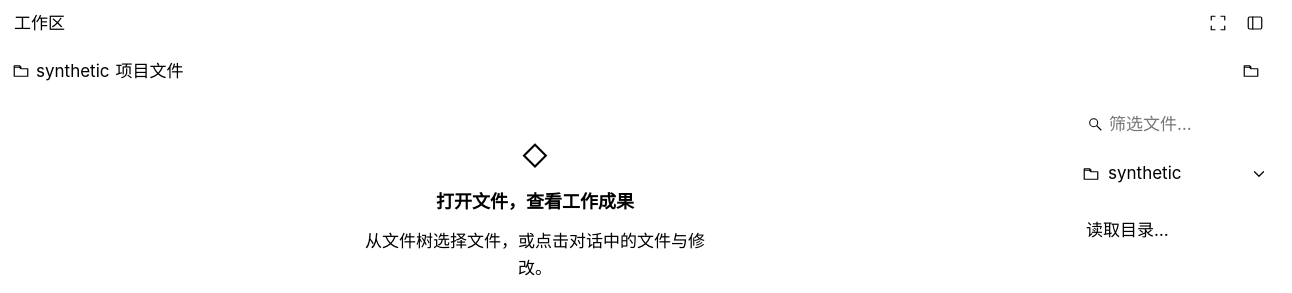
Test case: filters nested project files and presents no manual refresh control
Type "match" into the field labelled "筛选文件".
click(1188, 124); type("match")  # box [1104,105,1272,143]
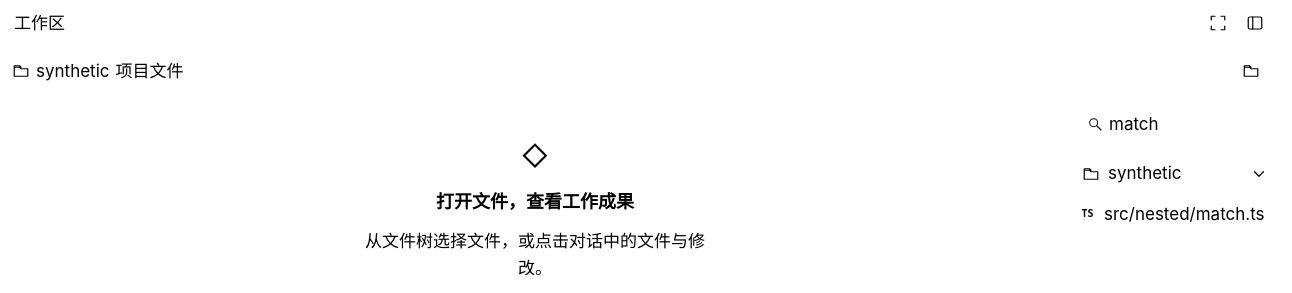
Check: the list item "src/nested/match.ts" is shown, box [1070,195,1280,233]
